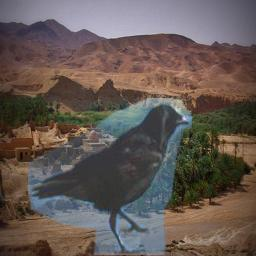Crow: (28, 98, 192, 255)
